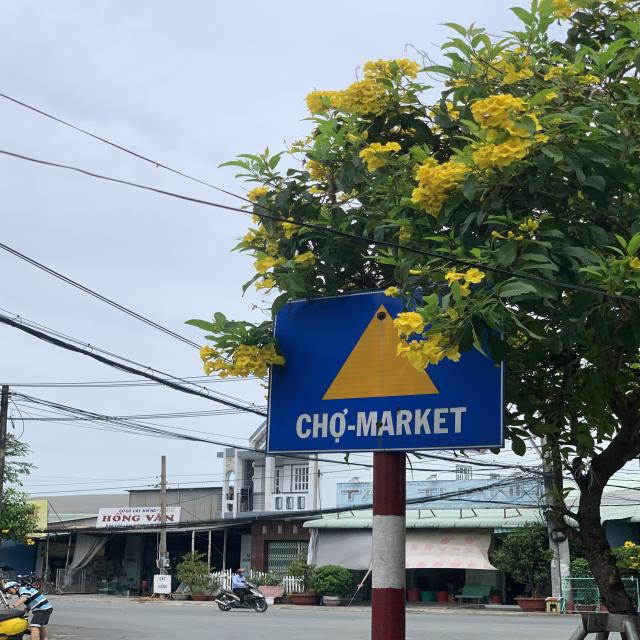Cho_Quay_Xe: (266, 286, 504, 454)
